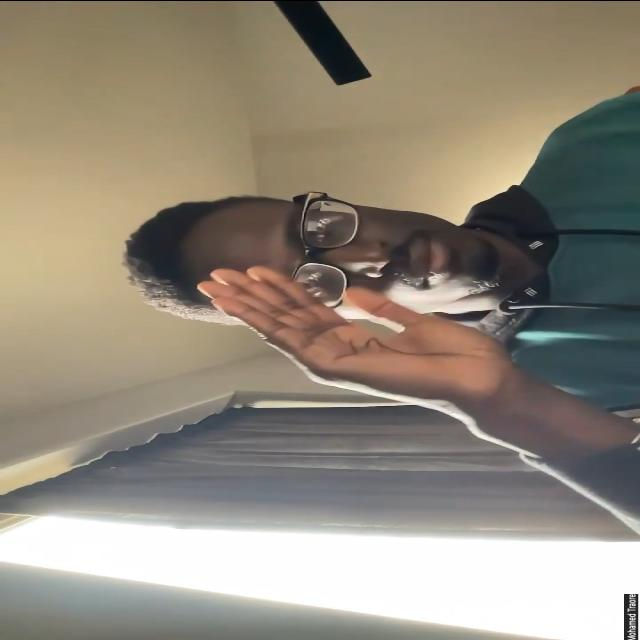Paper: (194, 264, 513, 409)
